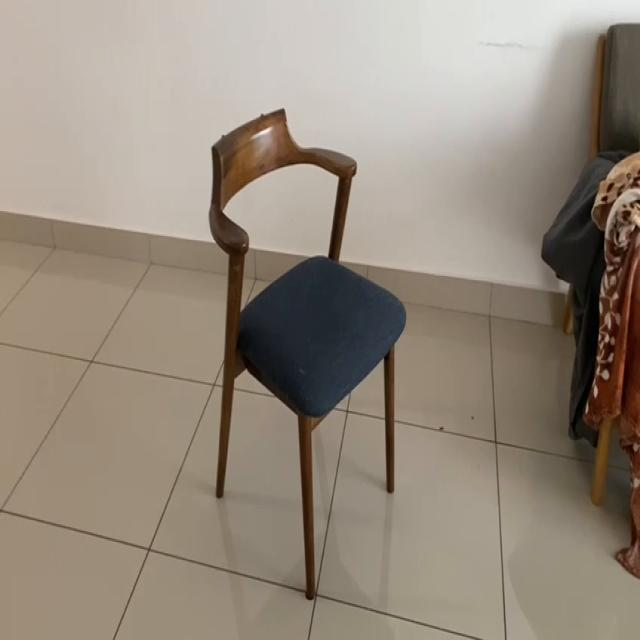Chair: (194, 104, 410, 607)
